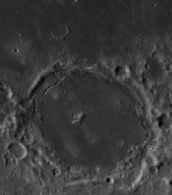crater: (107, 54, 138, 87), (3, 136, 33, 167)
